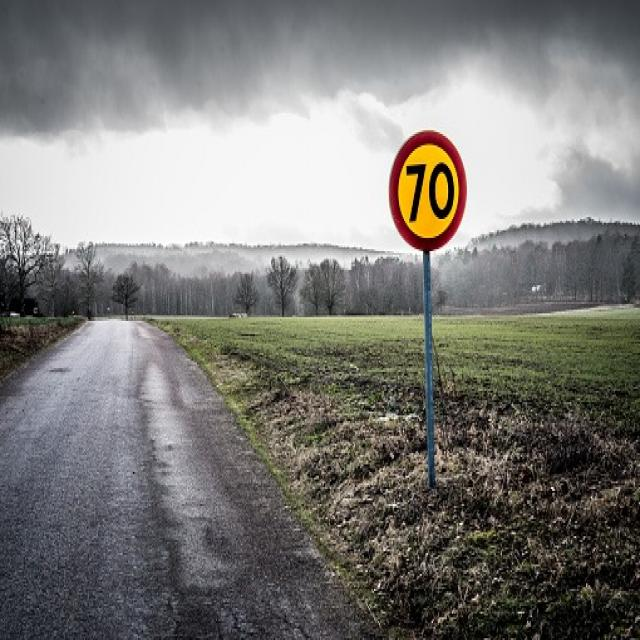speed_limit_70: (383, 124, 471, 253)
